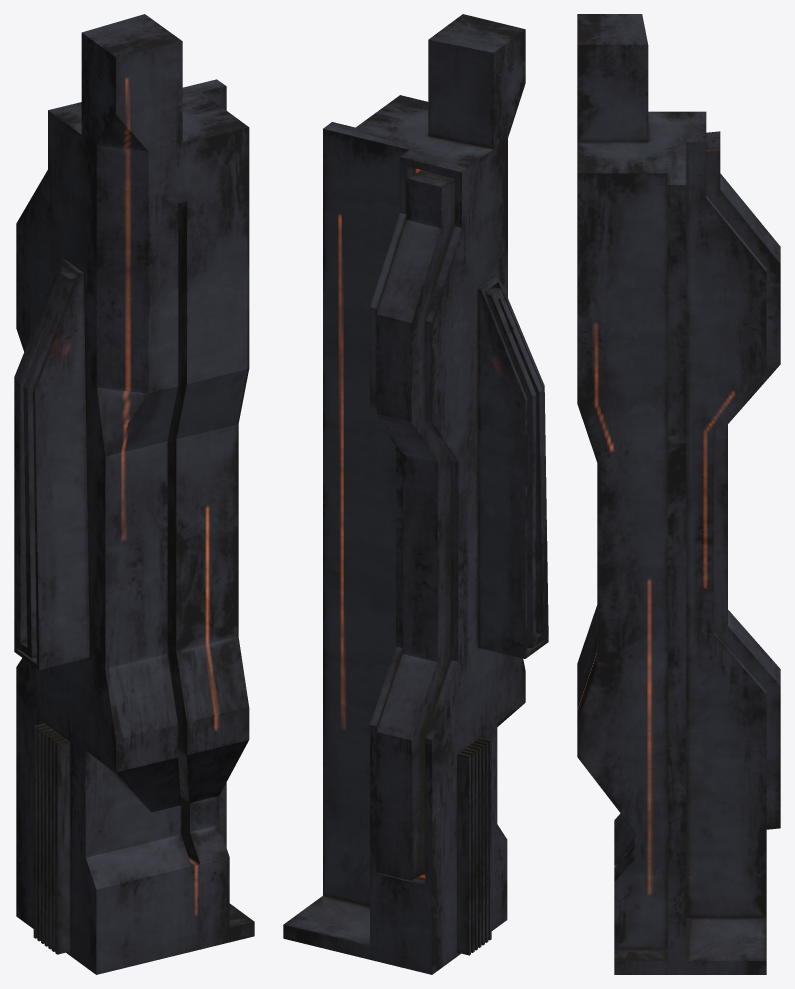
Rendered from Scifi-Building_03.glb.
The picture shows the model from 3 angles, left to right: view 1: azimuth 30°, elevation 25°; view 2: azimuth 150°, elevation 25°; view 3: azimuth 270°, elevation 25°; orthographic projection. The views are drawn at different scales.
Visible parts, largest first — view 1: SB_03; view 2: SB_03; view 3: SB_03.
Boxes of the visible parts, x1=… form: SB_03: x1=14, y1=14, x2=254, y2=974; SB_03: x1=283, y1=14, x2=548, y2=974; SB_03: x1=577, y1=14, x2=780, y2=974.
Size of the model in its own units: 17.93 by 75.44 by 15.67.
1 material, 1 textured.
